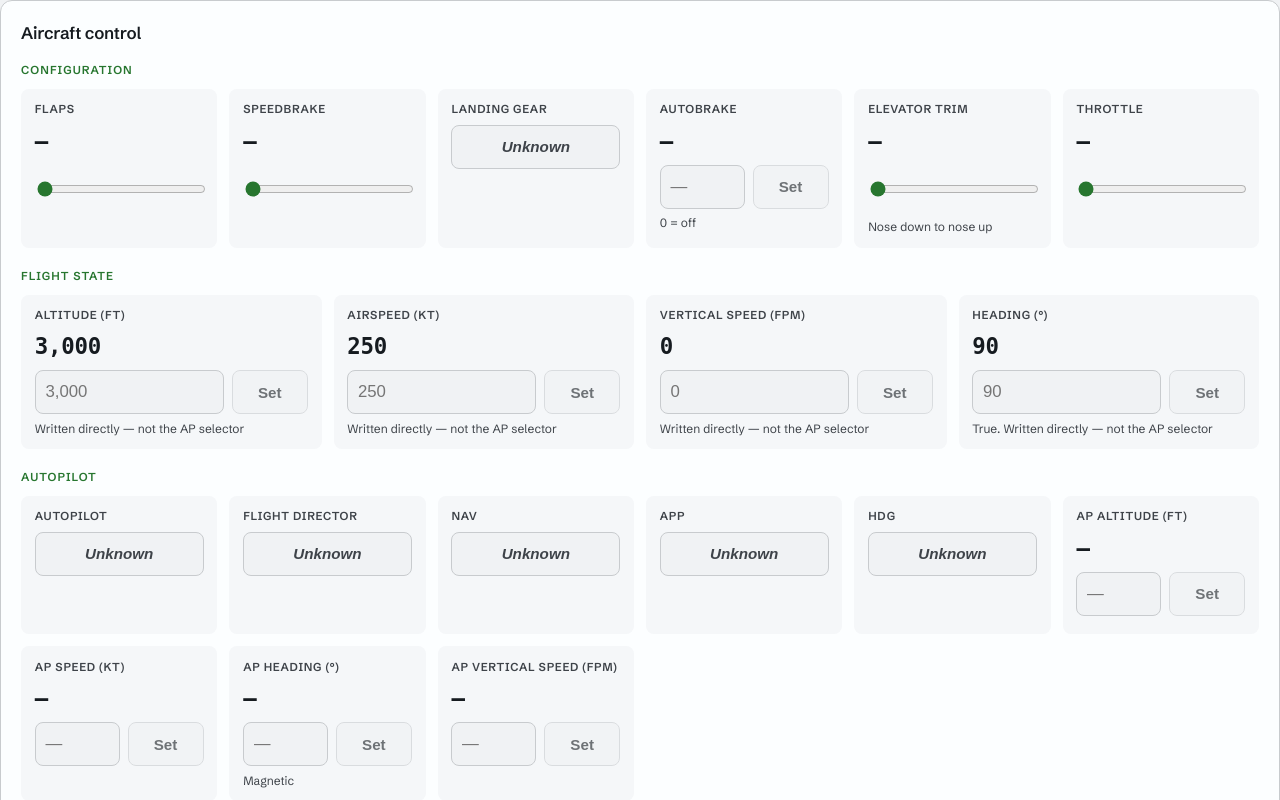
<AircraftControlPanel /> › commits a stepper only when "Set" is pressed
Expected: the text "3,000" is shown, [35, 333, 101, 359]
Type "5500" into the number field labelled "Altitude (ft)".
click(129, 392); type("5500")  # box [35, 370, 224, 414]
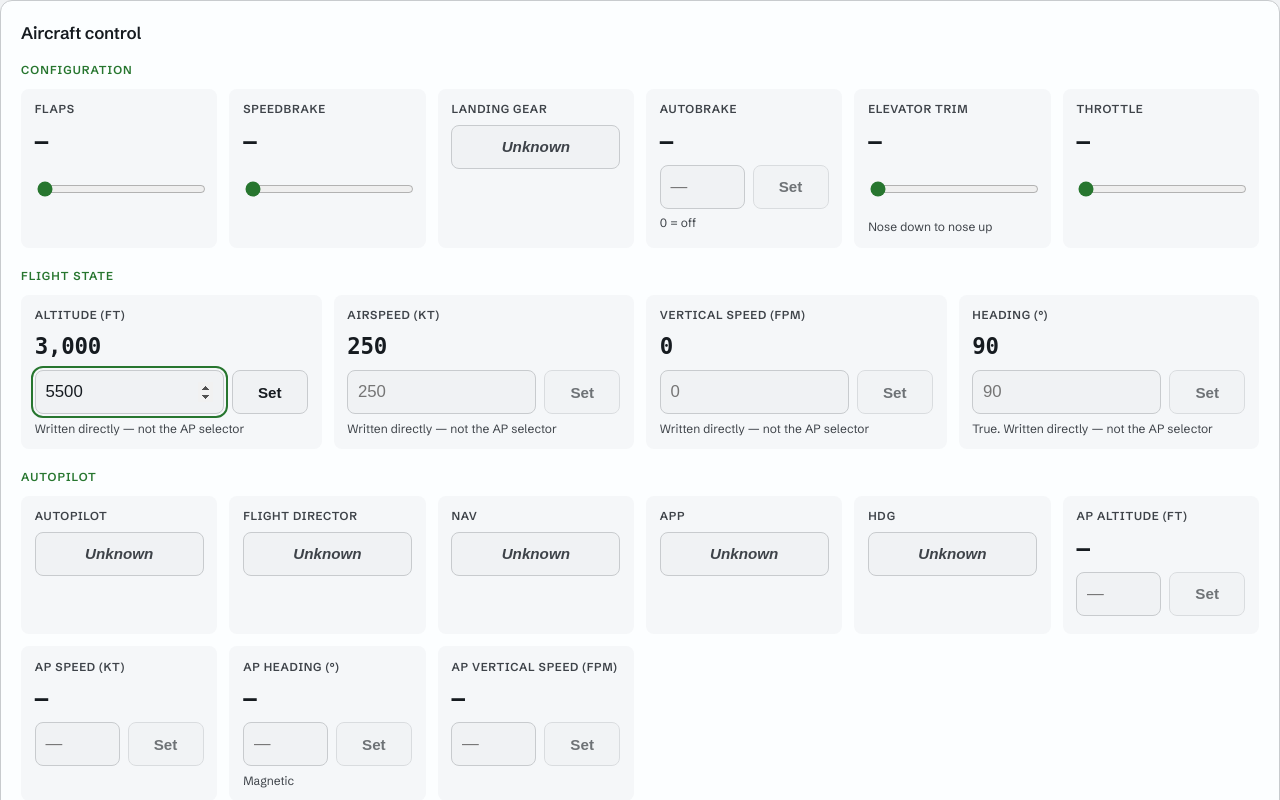
Click the button "Set" below "3,000".
click(270, 392)  # box [232, 370, 308, 414]
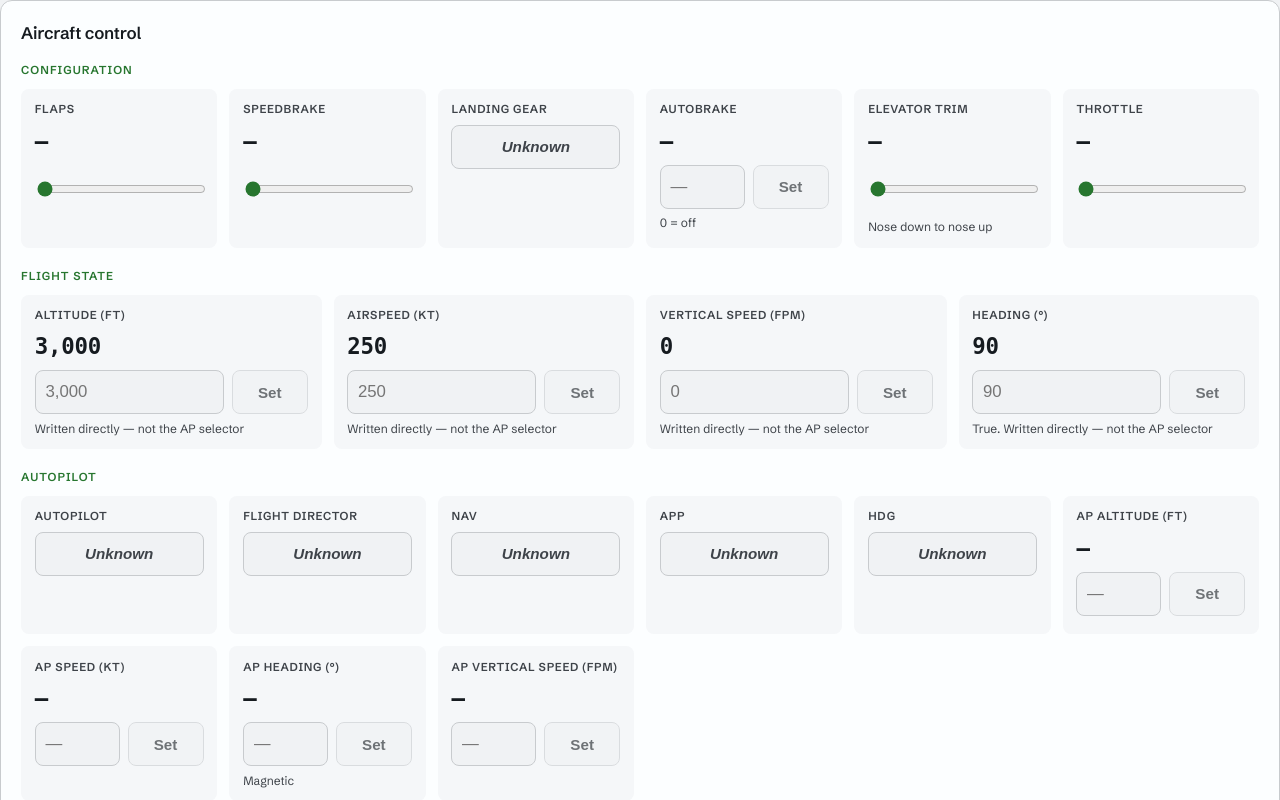
Expected: the number field labelled "Altitude (ft)" is not empty, [35, 370, 224, 414]
